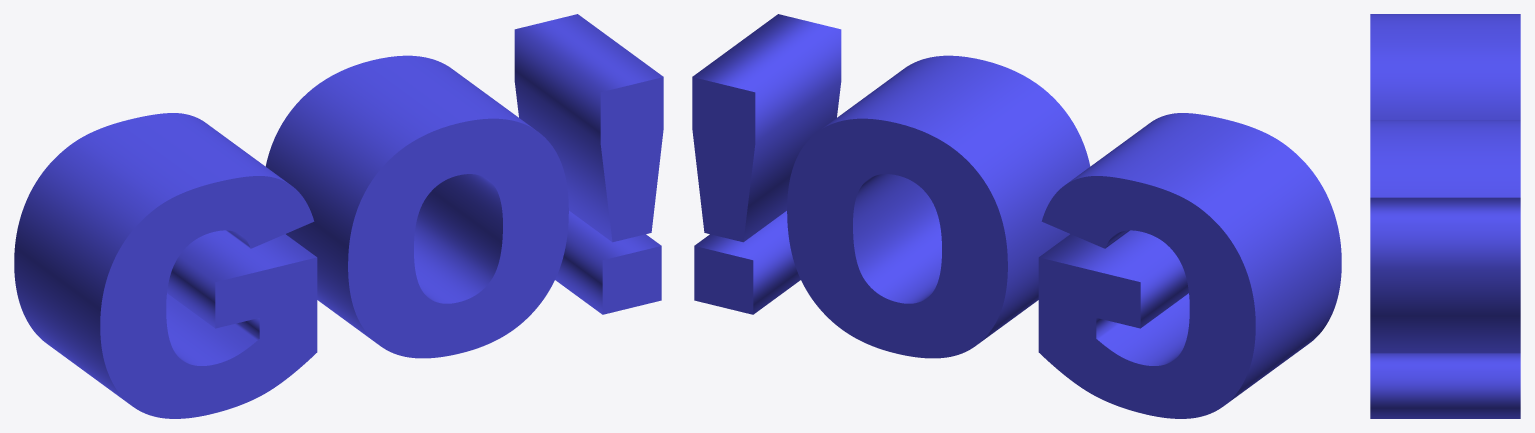
3 views of the same model, side by side, from view 1: azimuth 30°, elevation 25°; view 2: azimuth 150°, elevation 25°; view 3: azimuth 270°, elevation 25° (orthographic). The views are drawn at different scales.
Visible parts, largest first — view 1: GO!; view 2: GO!; view 3: GO!.
Part boxes in pixels (x1,y1,x2,y2): GO!: [14, 14, 663, 418]; GO!: [692, 14, 1341, 418]; GO!: [1370, 14, 1520, 418].
Size of the model in its own units: 1.36 by 0.5325 by 0.36.
